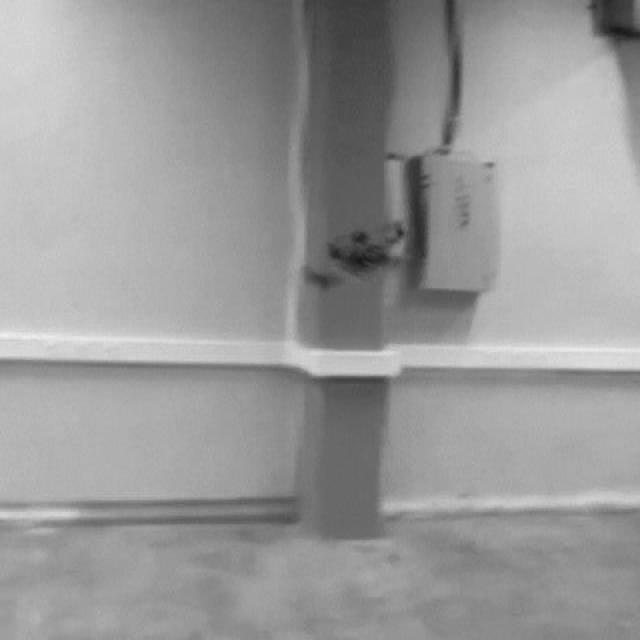drone: (302, 221, 429, 290)
